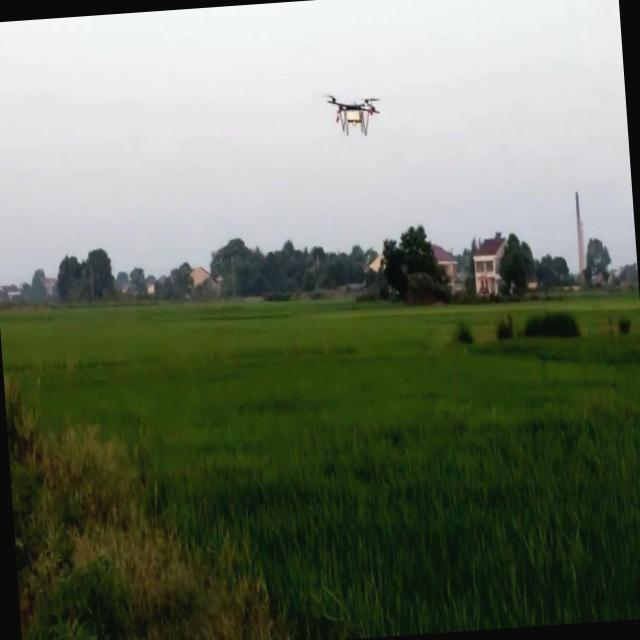drone: (325, 88, 381, 140)
